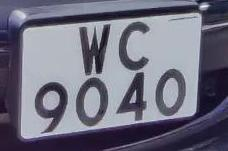0: (73, 75, 117, 133), (151, 63, 190, 123)
4: (115, 69, 154, 127)
9: (29, 75, 74, 137)
C: (113, 17, 156, 75)
W: (73, 18, 115, 80)
